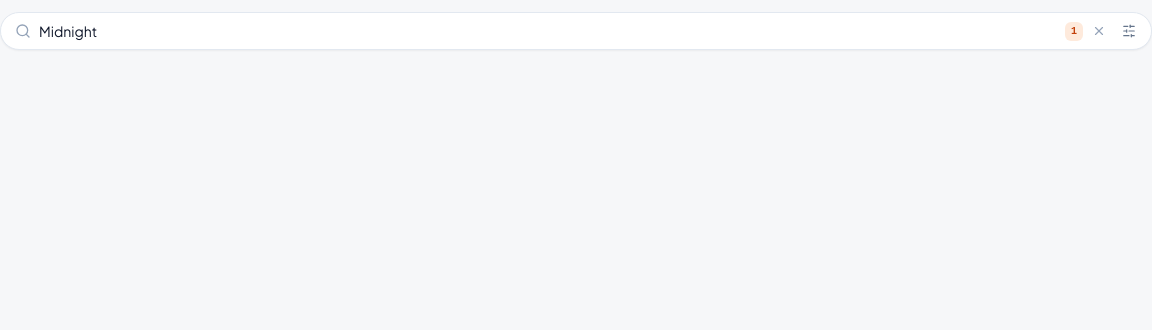
AdvancedSearch & multi-token filtering › opens live suggestions on focus, filters by scope, and triggers play/playlist callbacks
Later steps or results of the test are not shown.
Click the field named "Search songs" at (552, 31), box [39,13,1065,49]
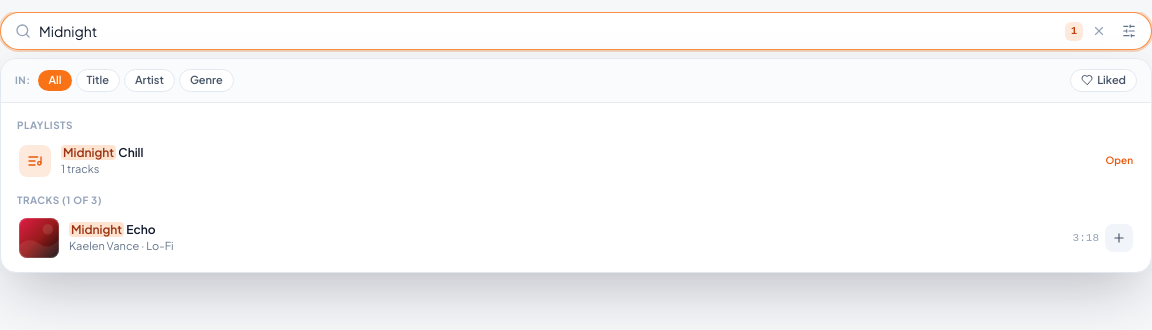
Now the element named "Search suggestions" is shown
